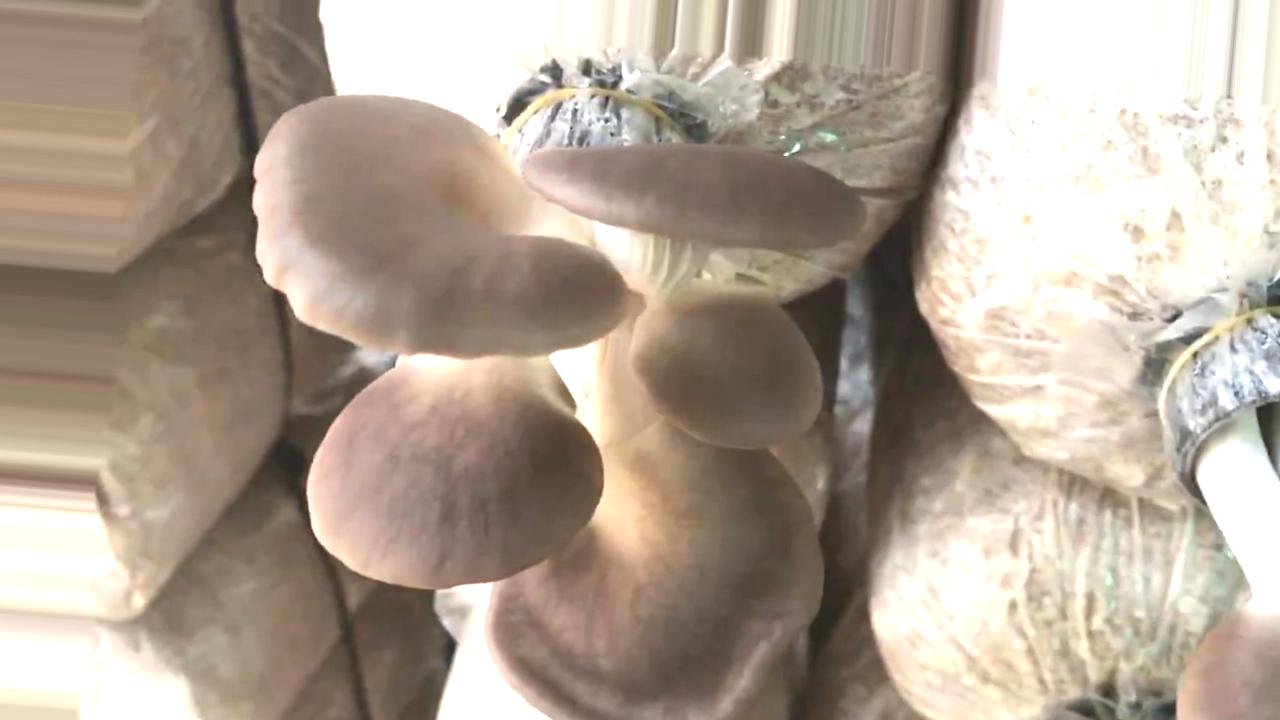nam: (252, 90, 865, 719), (1156, 314, 1278, 720)
